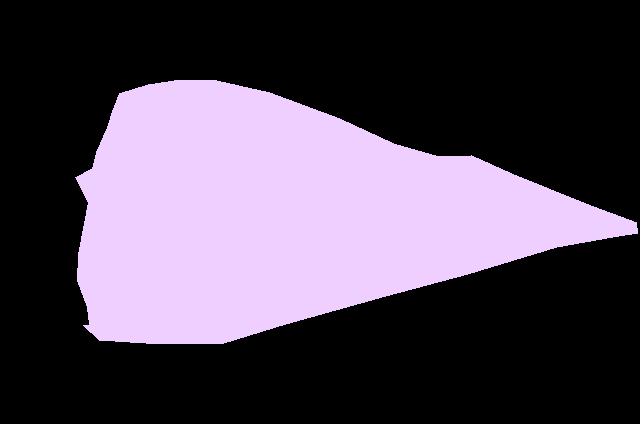Train: (75, 80, 638, 343)
